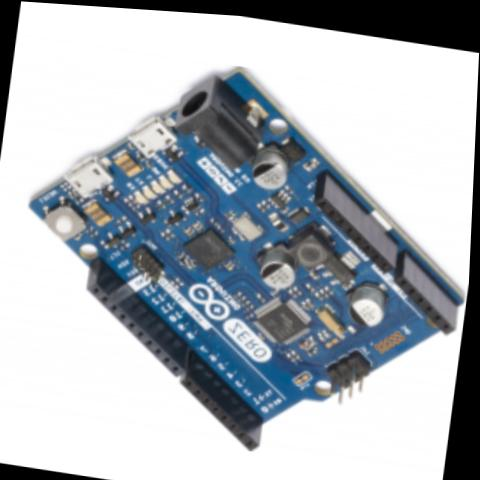Arduino-Zero: (0, 30, 479, 474)
